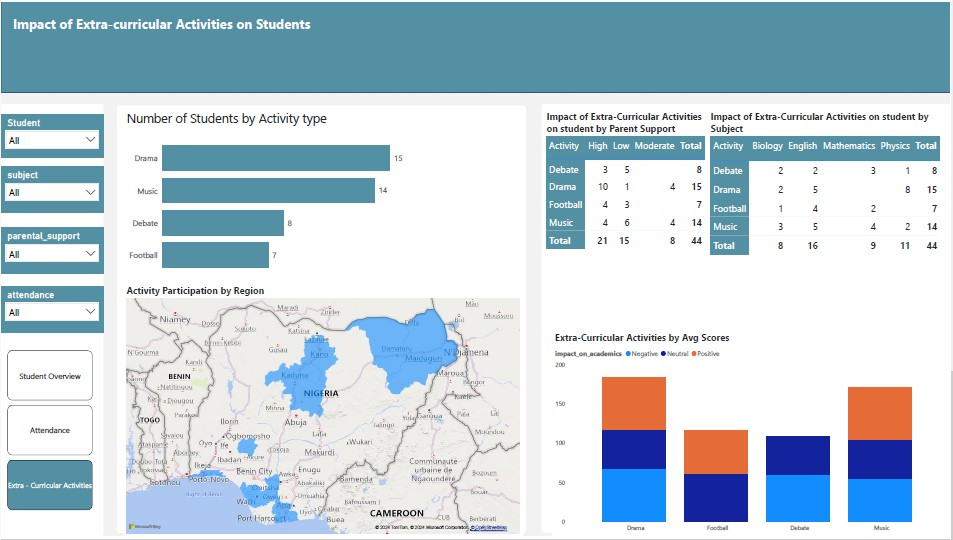

Layout of this report page (visuals, bound fields, positions):
{"tool":"powerbi","page":{"name":"Extra - Curricular Activities","canvas":[1920,1080],"ordinal":2},"visuals":[{"type":"barChart","title":"Number of Students by Activity type ","fields":{"Y":["Dax.Student No"],"Category":["school_performance extra_curricular.activity_name"]},"box":[249.4,216.7,574.5,352.8],"z":1000},{"type":"lineStackedColumnComboChart","title":"Extra-Curricular Activities by Avg Scores","fields":{"Category":["school_performance extra_curricular.activity_name"],"Y":["Dax.AvgScore"],"Series":["school_performance extra_curricular.impact_on_academics"]},"box":[1116.2,665.2,803.8,415.7],"z":2000},{"type":"filledMap","title":"Activity Participation by Region ","fields":{"Category":["school_performance student_demographics.region_state"]},"box":[249.4,569.4,806.3,511.5],"z":3000},{"type":"pivotTable","title":"Impact of Extra-Curricular Activities on student by Parent Support","fields":{"Rows":["school_performance extra_curricular.activity_name"],"Columns":["school_performance parents_info.parental_support"],"Values":["Dax.Student No"]},"box":[1099.1,216.9,331.7,304],"z":4000},{"type":"pivotTable","title":"Impact of Extra-Curricular Activities on student by Subject","fields":{"Rows":["school_performance extra_curricular.activity_name"],"Values":["Dax.Student No"],"Columns":["school_performance performance_records.subject"]},"box":[1430.8,216.9,489,352.9],"z":5000},{"type":"slicer","fields":{"Values":["school_performance student_demographics.full_name"]},"box":[0,226.2,206.6,88.2],"z":5001},{"type":"slicer","fields":{"Values":["school_performance performance_records.subject"]},"box":[0,332,206.6,93.2],"z":5002},{"type":"slicer","fields":{"Values":["school_performance parents_info.parental_support"]},"box":[0,455.5,206.6,93.2],"z":5003},{"type":"slicer","fields":{"Values":["school_performance student_demographics.attendance_consistency"]},"box":[0,573.9,206.6,93.2],"z":5004},{"type":"textbox","box":[19.1,19.1,688.8,87.2],"z":5005},{"type":"pageNavigator","box":[12.8,703.7,172.2,323.1],"z":5006}]}

Visuals, with their boxes on the page's 1920x1080 design canvas (x1, y1, x2, y2). These are canvas units, not pixel positions in the 953x540 screenshot, which may show the page scaled, cropped or inside an application window:
"Number of Students by Activity type " barChart: 249,217,824,570
"Extra-Curricular Activities by Avg Scores" lineStackedColumnComboChart: 1116,665,1920,1081
"Activity Participation by Region " filledMap: 249,569,1056,1081
"Impact of Extra-Curricular Activities on student by Parent Support" pivotTable: 1099,217,1431,521
"Impact of Extra-Curricular Activities on student by Subject" pivotTable: 1431,217,1920,570
slicer - school_performance student_demographics.full_name: 0,226,207,314
slicer - school_performance performance_records.subject: 0,332,207,425
slicer - school_performance parents_info.parental_support: 0,456,207,549
slicer - school_performance student_demographics.attendance_consistency: 0,574,207,667
textbox: 19,19,708,106
pageNavigator: 13,704,185,1027
